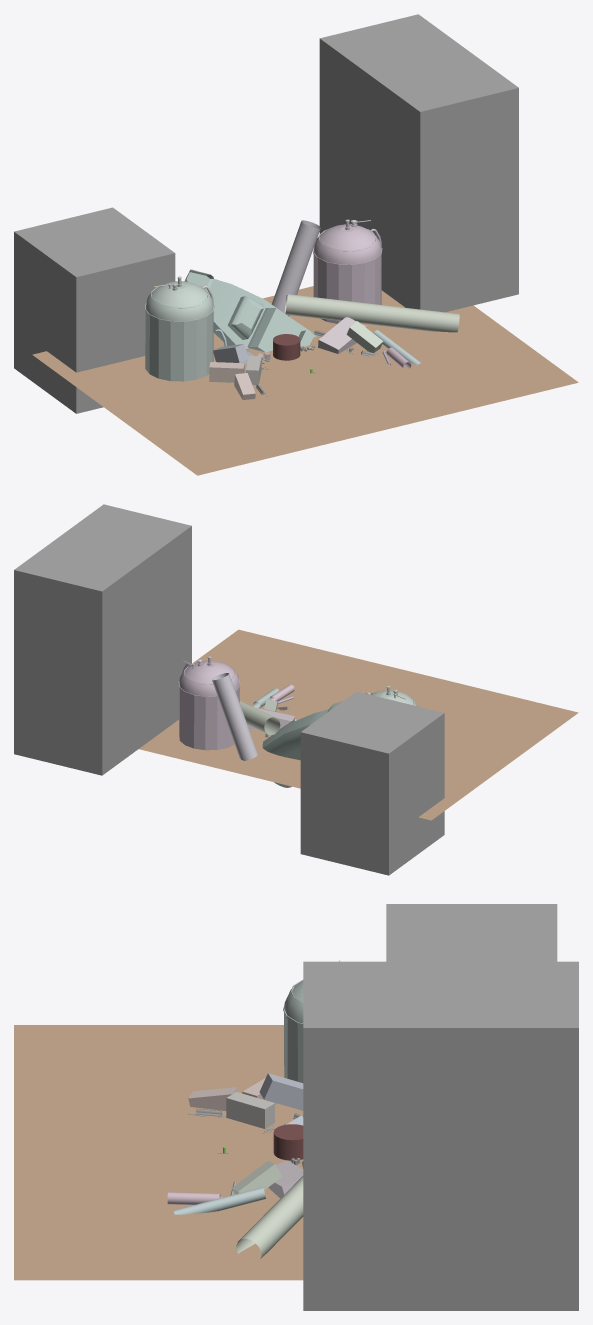
The model's file is eislato_lin_BOSS_MAP_V1.1.fbx.
The picture shows the model from 3 angles, top to bottom: view 1: azimuth 30°, elevation 25°; view 2: azimuth 150°, elevation 25°; view 3: azimuth 270°, elevation 25°; orthographic projection. The views are drawn at different scales.
Visible parts, largest first — view 1: pCube11, floor1, pCube10, s_1_main, s_2_main, boat1, pipe_1, pipe_6, big_container_1, Boss, container_3, container_5; view 2: pCube11, floor1, pCube10, s_2_main, pipe_6, boat1, pipe_1; view 3: pCube11, floor1, pCube10, pipe_1, s_1_main, container_1, container_2, Boss, pipe_2, container_5, container_4, big_container_1 (+1 smaller).
Part boxes in pixels (x1,y1,x2,y2): pCube11: (319, 14, 518, 312); floor1: (32, 286, 578, 475); pCube10: (14, 207, 175, 413); s_1_main: (145, 276, 214, 381); s_2_main: (313, 219, 382, 323); boat1: (185, 269, 316, 352); pipe_1: (284, 294, 459, 332); pipe_6: (271, 220, 320, 316); big_container_1: (318, 317, 366, 353); Boss: (273, 334, 300, 360); container_3: (209, 362, 244, 382); container_5: (346, 321, 383, 352); pCube11: (14, 504, 191, 775); floor1: (139, 629, 578, 820); pCube10: (300, 691, 444, 875); s_2_main: (178, 656, 240, 750); pipe_6: (212, 673, 257, 760); boat1: (262, 701, 342, 787); pipe_1: (240, 701, 280, 735); pCube11: (303, 961, 578, 1310); floor1: (14, 1025, 303, 1280); pCube10: (386, 904, 557, 961); pipe_1: (236, 1176, 303, 1258); s_1_main: (283, 979, 303, 1082); container_1: (226, 1092, 274, 1128); container_2: (259, 1073, 303, 1110); Boss: (273, 1124, 303, 1160); pipe_2: (173, 1187, 265, 1214); container_5: (231, 1160, 282, 1194); container_4: (188, 1087, 238, 1110); big_container_1: (268, 1160, 303, 1198).
Size of the model in its own units: 3240 by 1859 by 2707.
